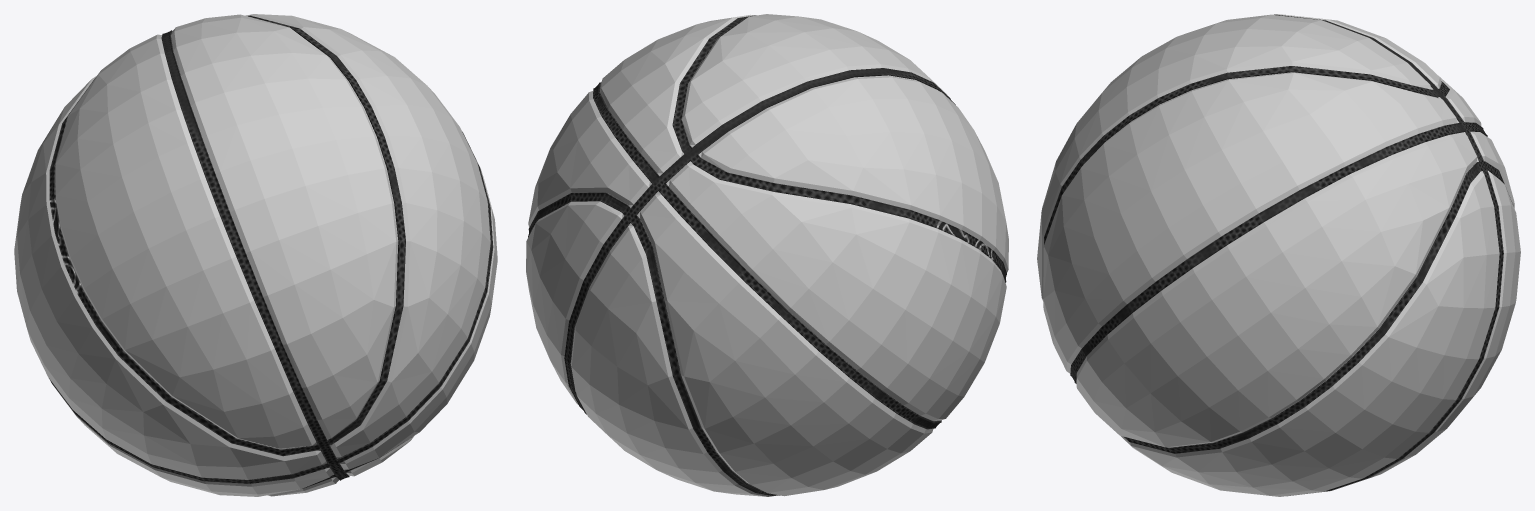
The model's file is basketball2.dae.
The picture shows the model from 3 angles, left to right: view 1: azimuth 30°, elevation 25°; view 2: azimuth 150°, elevation 25°; view 3: azimuth 270°, elevation 25°; orthographic projection.
Visible parts, largest first — view 1: Ball, Grip; view 2: Ball, Grip; view 3: Ball, Grip.
Boxes of the visible parts, <box> form: Ball: <box>14,14,497,496</box>; Grip: <box>49,15,493,488</box>; Ball: <box>526,14,1008,496</box>; Grip: <box>528,15,1006,495</box>; Ball: <box>1037,14,1520,496</box>; Grip: <box>1044,14,1513,491</box>.
Size of the model in its own units: 0.2306 by 0.2308 by 0.2314.
